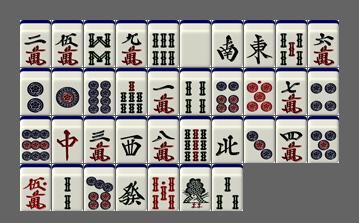0m: (20, 164, 51, 211)
0p: (244, 68, 275, 115)
0s: (148, 164, 179, 211)
1m: (148, 68, 179, 115)
1p: (52, 68, 83, 115)
1s: (180, 164, 211, 211)
1z: (244, 20, 275, 67)
2m: (20, 20, 51, 67)
2p: (20, 68, 51, 115)
2s: (52, 164, 83, 211)
2z: (212, 20, 243, 67)
3m: (84, 116, 115, 163)
3p: (244, 116, 275, 163)
3s: (212, 164, 243, 211)
3z: (116, 116, 147, 163)
4m: (276, 116, 307, 163)
4p: (308, 68, 339, 115)
4s: (180, 68, 211, 115)
4z: (212, 116, 243, 163)
5m: (52, 20, 83, 67)
5p: (308, 116, 339, 163)
5s: (276, 20, 307, 67)
5z: (180, 20, 211, 67)
6m: (308, 20, 339, 67)
6p: (212, 68, 243, 115)
6s: (148, 20, 179, 67)
6z: (116, 164, 147, 211)
7m: (276, 68, 307, 115)
7p: (84, 164, 115, 211)
7s: (116, 68, 147, 115)
7z: (52, 116, 83, 163)
8m: (148, 116, 179, 163)
8p: (84, 68, 115, 115)
8s: (84, 20, 115, 67)
9m: (116, 20, 147, 67)
9p: (20, 116, 51, 163)
9s: (180, 116, 211, 163)
